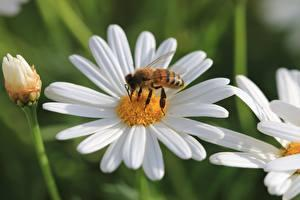chamomile: (71, 54, 198, 163), (250, 78, 300, 189)
